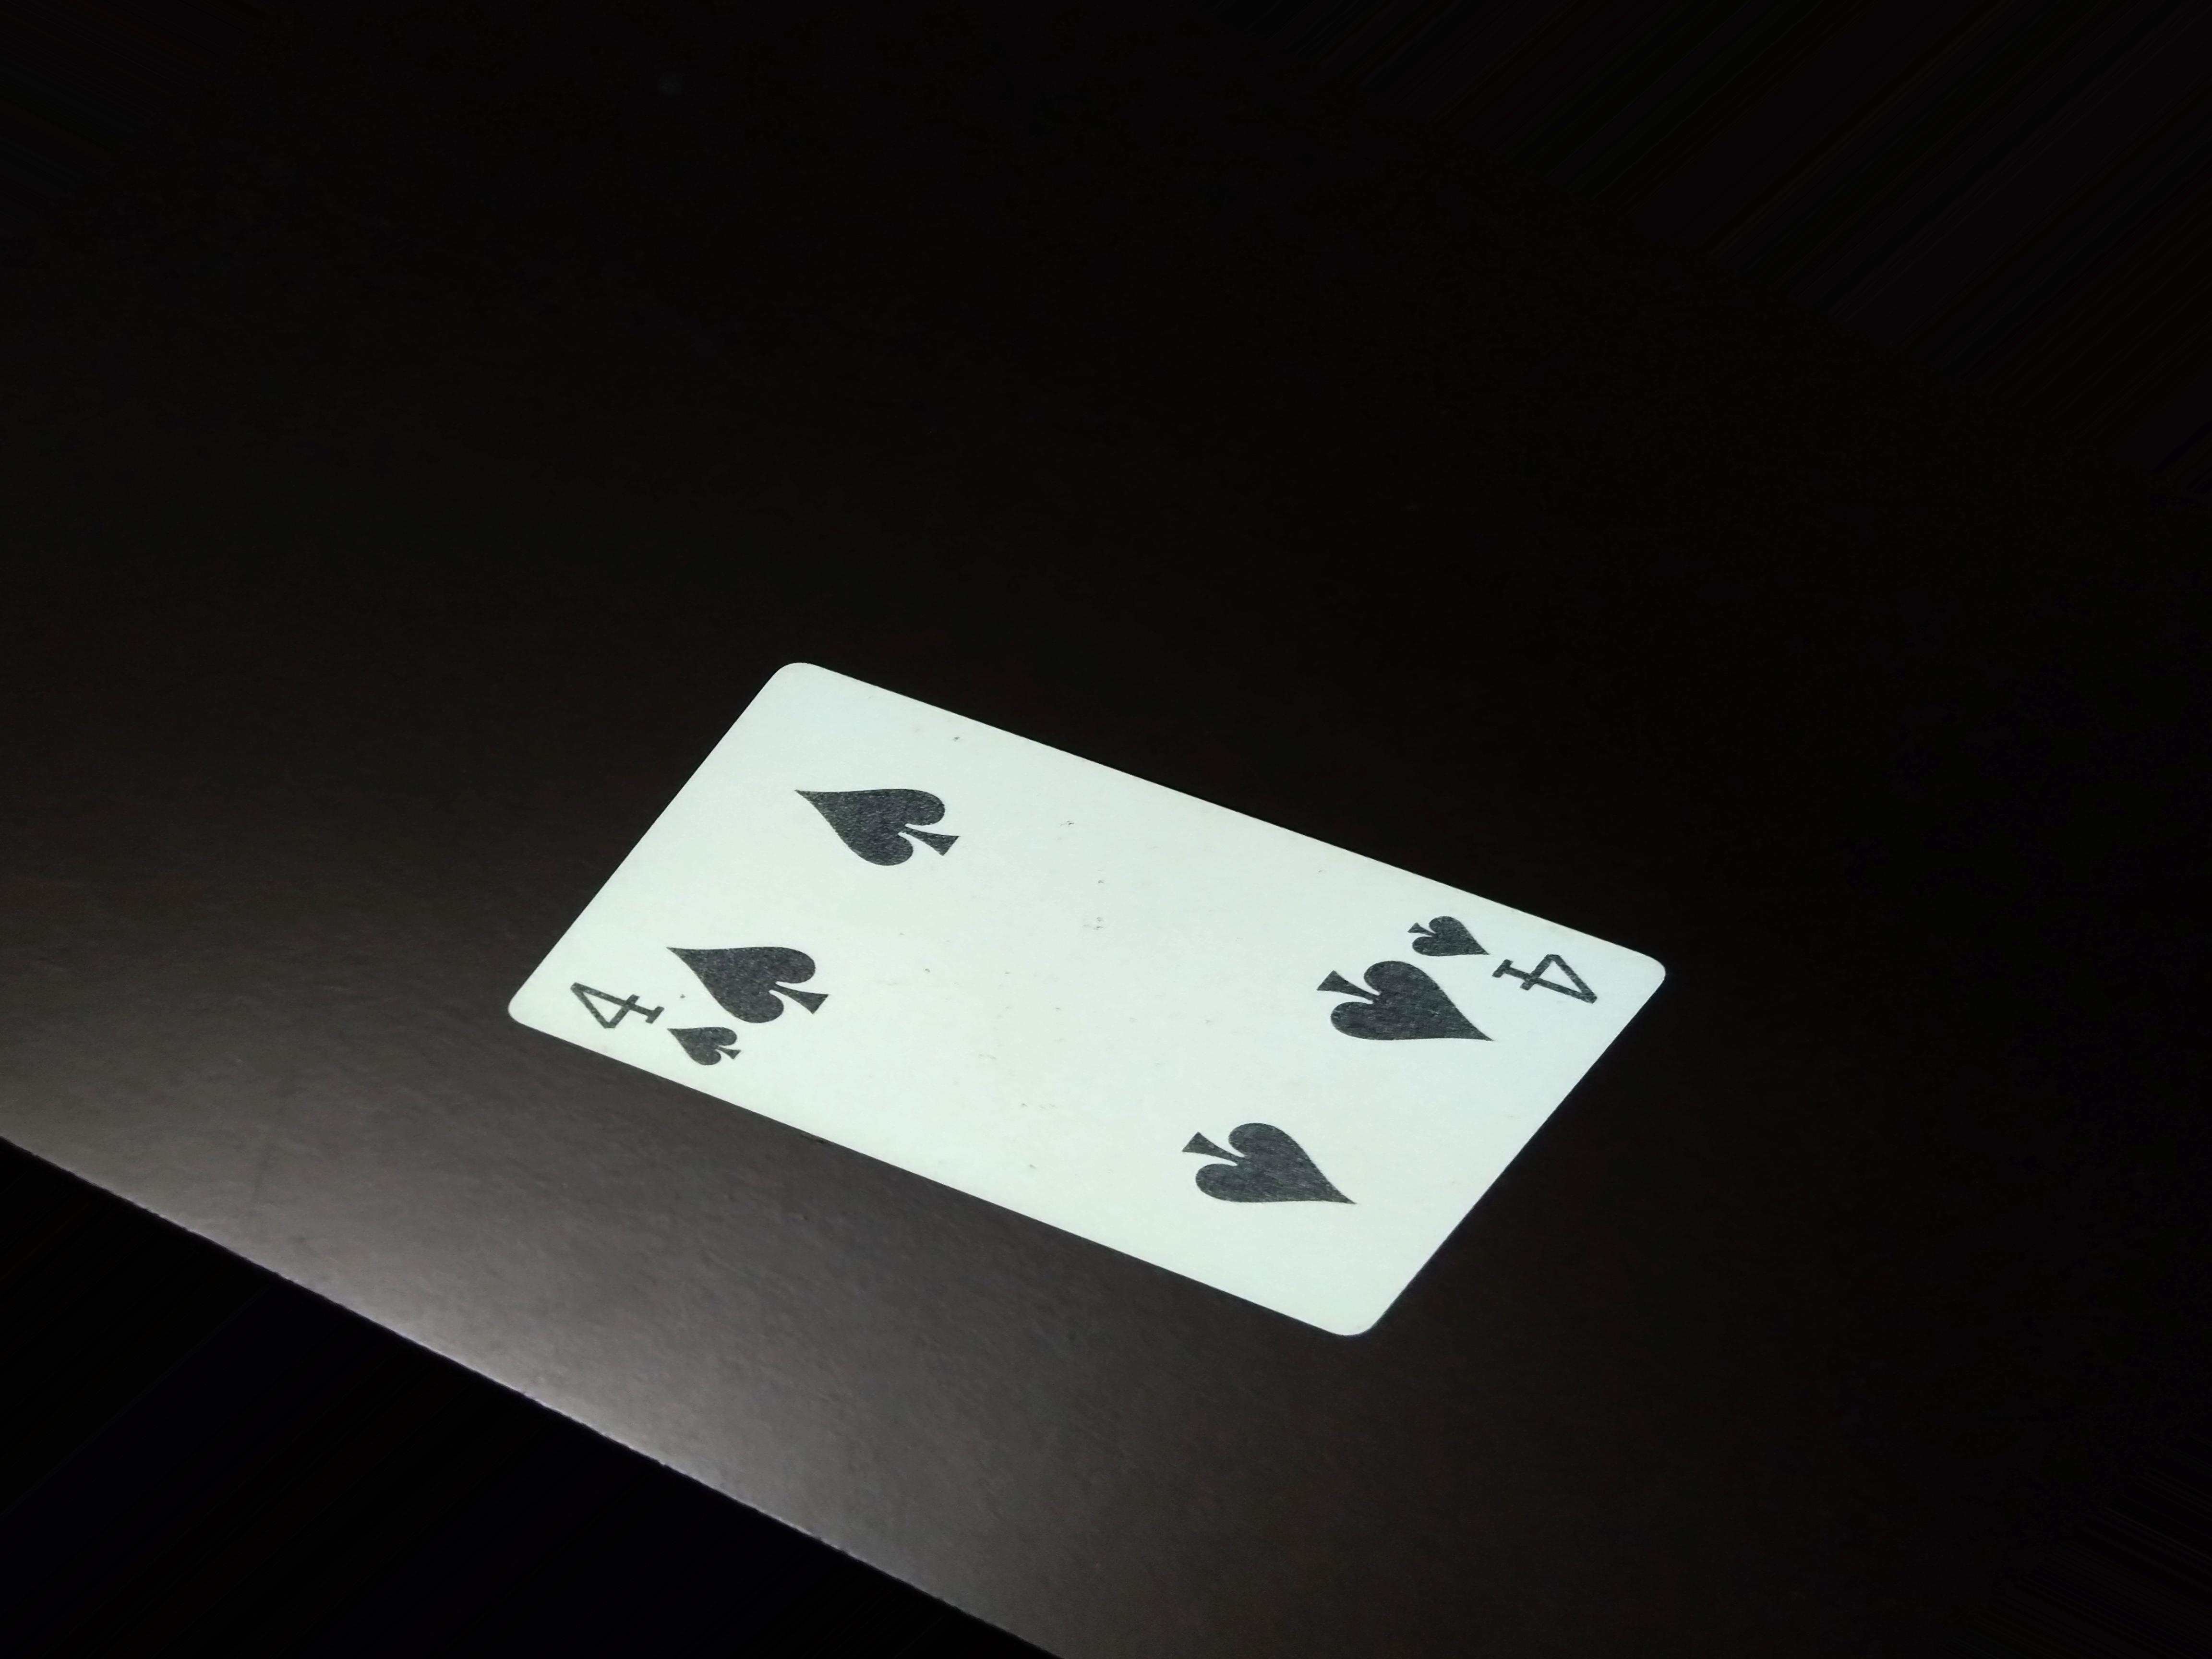4S: (1411, 896, 1608, 1025)
